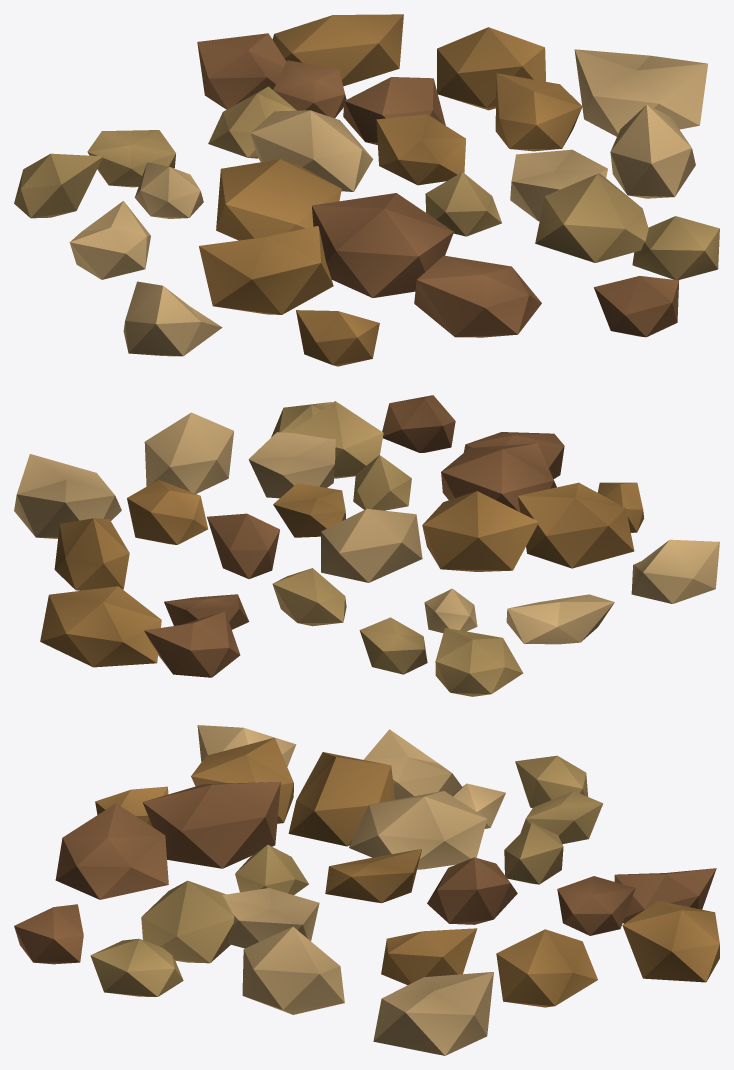
File: gold_grit.glb
3 renders of one model, top to bottom at view 1: azimuth 30°, elevation 25°; view 2: azimuth 150°, elevation 25°; view 3: azimuth 270°, elevation 25°, orthographic. The views are drawn at different scales.
Visible parts, largest first — view 1: gold_grit; view 2: gold_grit; view 3: gold_grit.
Part boxes in pixels (box(x1,y1,x2,y2)): gold_grit: box(14, 14, 719, 366); gold_grit: box(14, 395, 719, 696); gold_grit: box(14, 725, 719, 1055).
Size of the model in its own units: 0.1883 by 0.0321 by 0.1815.
